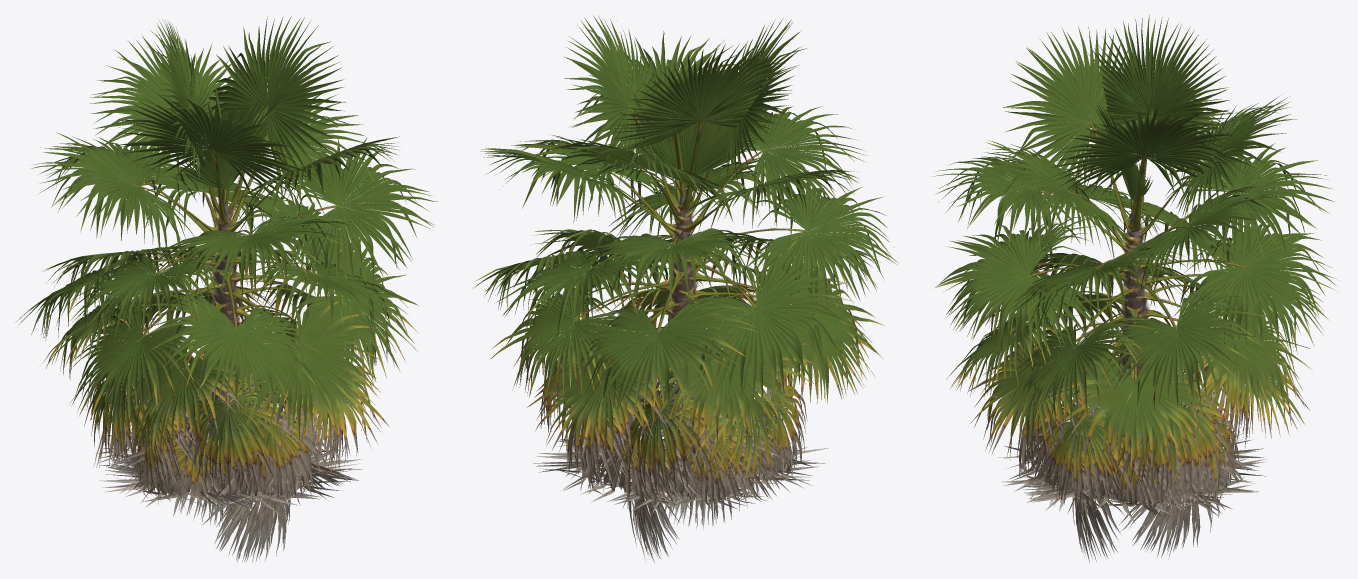
The model's file is palmier-washingtonia-grand.glb.
The picture shows the model from 3 angles, left to right: view 1: azimuth 30°, elevation 25°; view 2: azimuth 150°, elevation 25°; view 3: azimuth 270°, elevation 25°; orthographic projection. The views are drawn at different scales.
Visible parts, largest first — view 1: Washingtonia_robusta_HD_V2_Wash leaf 01_0, Washingtonia_robusta_HD_V2_Wash leaf 02_0, Washingtonia_robusta_HD_V2_Wash leaf 03_0, Washingtonia_robusta_HD_V2_Wash leaf stalk 01_0, Washingtonia_robusta_HD_V2_Wash rob spines_0, Washingtonia_robusta_HD_V2_Wash fur 2a_0, Washingtonia_robusta_HD_V2_Wahs crownshaft_0; view 2: Washingtonia_robusta_HD_V2_Wash leaf 02_0, Washingtonia_robusta_HD_V2_Wash leaf 03_0, Washingtonia_robusta_HD_V2_Wash leaf 01_0, Washingtonia_robusta_HD_V2_Wash leaf stalk 01_0, Washingtonia_robusta_HD_V2_Wash rob spines_0, Washingtonia_robusta_HD_V2_Wahs crownshaft_0; view 3: Washingtonia_robusta_HD_V2_Wash leaf 02_0, Washingtonia_robusta_HD_V2_Wash leaf 01_0, Washingtonia_robusta_HD_V2_Wash leaf 03_0, Washingtonia_robusta_HD_V2_Wash leaf stalk 01_0, Washingtonia_robusta_HD_V2_Wash rob spines_0, Washingtonia_robusta_HD_V2_Wash fur 1a_0.
Boxes of the visible parts, left/top/right/bottom form: Washingtonia_robusta_HD_V2_Wash leaf 01_0: left=18, top=16, right=437, bottom=561; Washingtonia_robusta_HD_V2_Wash leaf 02_0: left=15, top=16, right=433, bottom=555; Washingtonia_robusta_HD_V2_Wash leaf 03_0: left=28, top=16, right=433, bottom=562; Washingtonia_robusta_HD_V2_Wash leaf stalk 01_0: left=100, top=89, right=344, bottom=424; Washingtonia_robusta_HD_V2_Wash rob spines_0: left=134, top=121, right=336, bottom=448; Washingtonia_robusta_HD_V2_Wash fur 2a_0: left=212, top=203, right=240, bottom=363; Washingtonia_robusta_HD_V2_Wahs crownshaft_0: left=208, top=205, right=239, bottom=441; Washingtonia_robusta_HD_V2_Wash leaf 02_0: left=473, top=15, right=897, bottom=555; Washingtonia_robusta_HD_V2_Wash leaf 03_0: left=475, top=19, right=898, bottom=562; Washingtonia_robusta_HD_V2_Wash leaf 01_0: left=480, top=16, right=888, bottom=559; Washingtonia_robusta_HD_V2_Wash leaf stalk 01_0: left=570, top=102, right=810, bottom=409; Washingtonia_robusta_HD_V2_Wash rob spines_0: left=575, top=111, right=806, bottom=430; Washingtonia_robusta_HD_V2_Wahs crownshaft_0: left=668, top=198, right=695, bottom=446; Washingtonia_robusta_HD_V2_Wash leaf 02_0: left=935, top=18, right=1336, bottom=562; Washingtonia_robusta_HD_V2_Wash leaf 01_0: left=932, top=15, right=1334, bottom=558; Washingtonia_robusta_HD_V2_Wash leaf 03_0: left=938, top=17, right=1336, bottom=561; Washingtonia_robusta_HD_V2_Wash leaf stalk 01_0: left=1020, top=109, right=1247, bottom=423; Washingtonia_robusta_HD_V2_Wash rob spines_0: left=1031, top=121, right=1241, bottom=453; Washingtonia_robusta_HD_V2_Wash fur 1a_0: left=1119, top=236, right=1147, bottom=368.
Bounding box in the file's own units: 2.85 × 3.99 × 2.94.
Materials: 19 (19 with a texture image).
